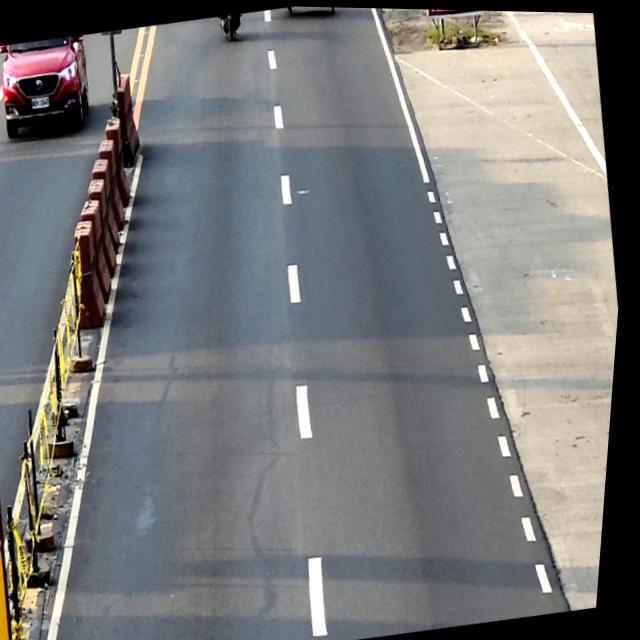Car: (0, 33, 97, 138)
License-Plate: (32, 95, 52, 111)
